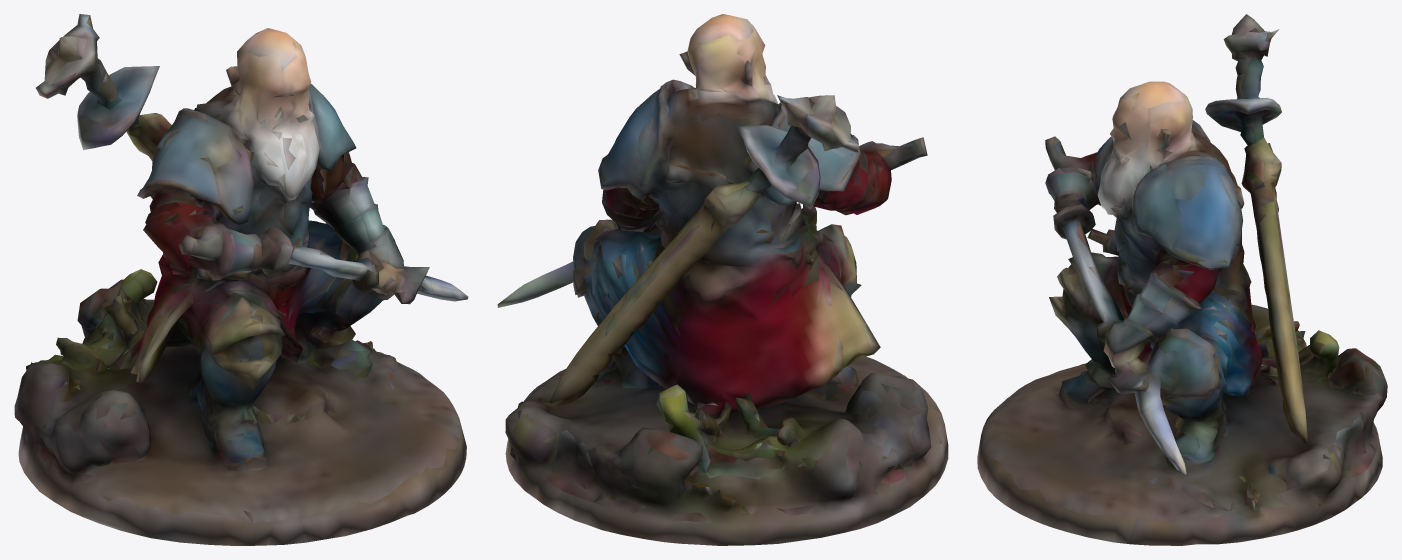
File: Gnomanite_final.glb
The picture shows the model from 3 angles, left to right: view 1: azimuth 30°, elevation 25°; view 2: azimuth 150°, elevation 25°; view 3: azimuth 270°, elevation 25°; orthographic projection. The views are drawn at different scales.
Parts seen in each view (by area): view 1: Mesh1.0; view 2: Mesh1.0; view 3: Mesh1.0.
Boxes of the visible parts, <box> form: Mesh1.0: <box>14,14,468,545</box>; Mesh1.0: <box>497,14,948,545</box>; Mesh1.0: <box>977,14,1387,545</box>.
Size of the model in its own units: 1.91 by 1.84 by 1.77.
1 material, 1 textured.
